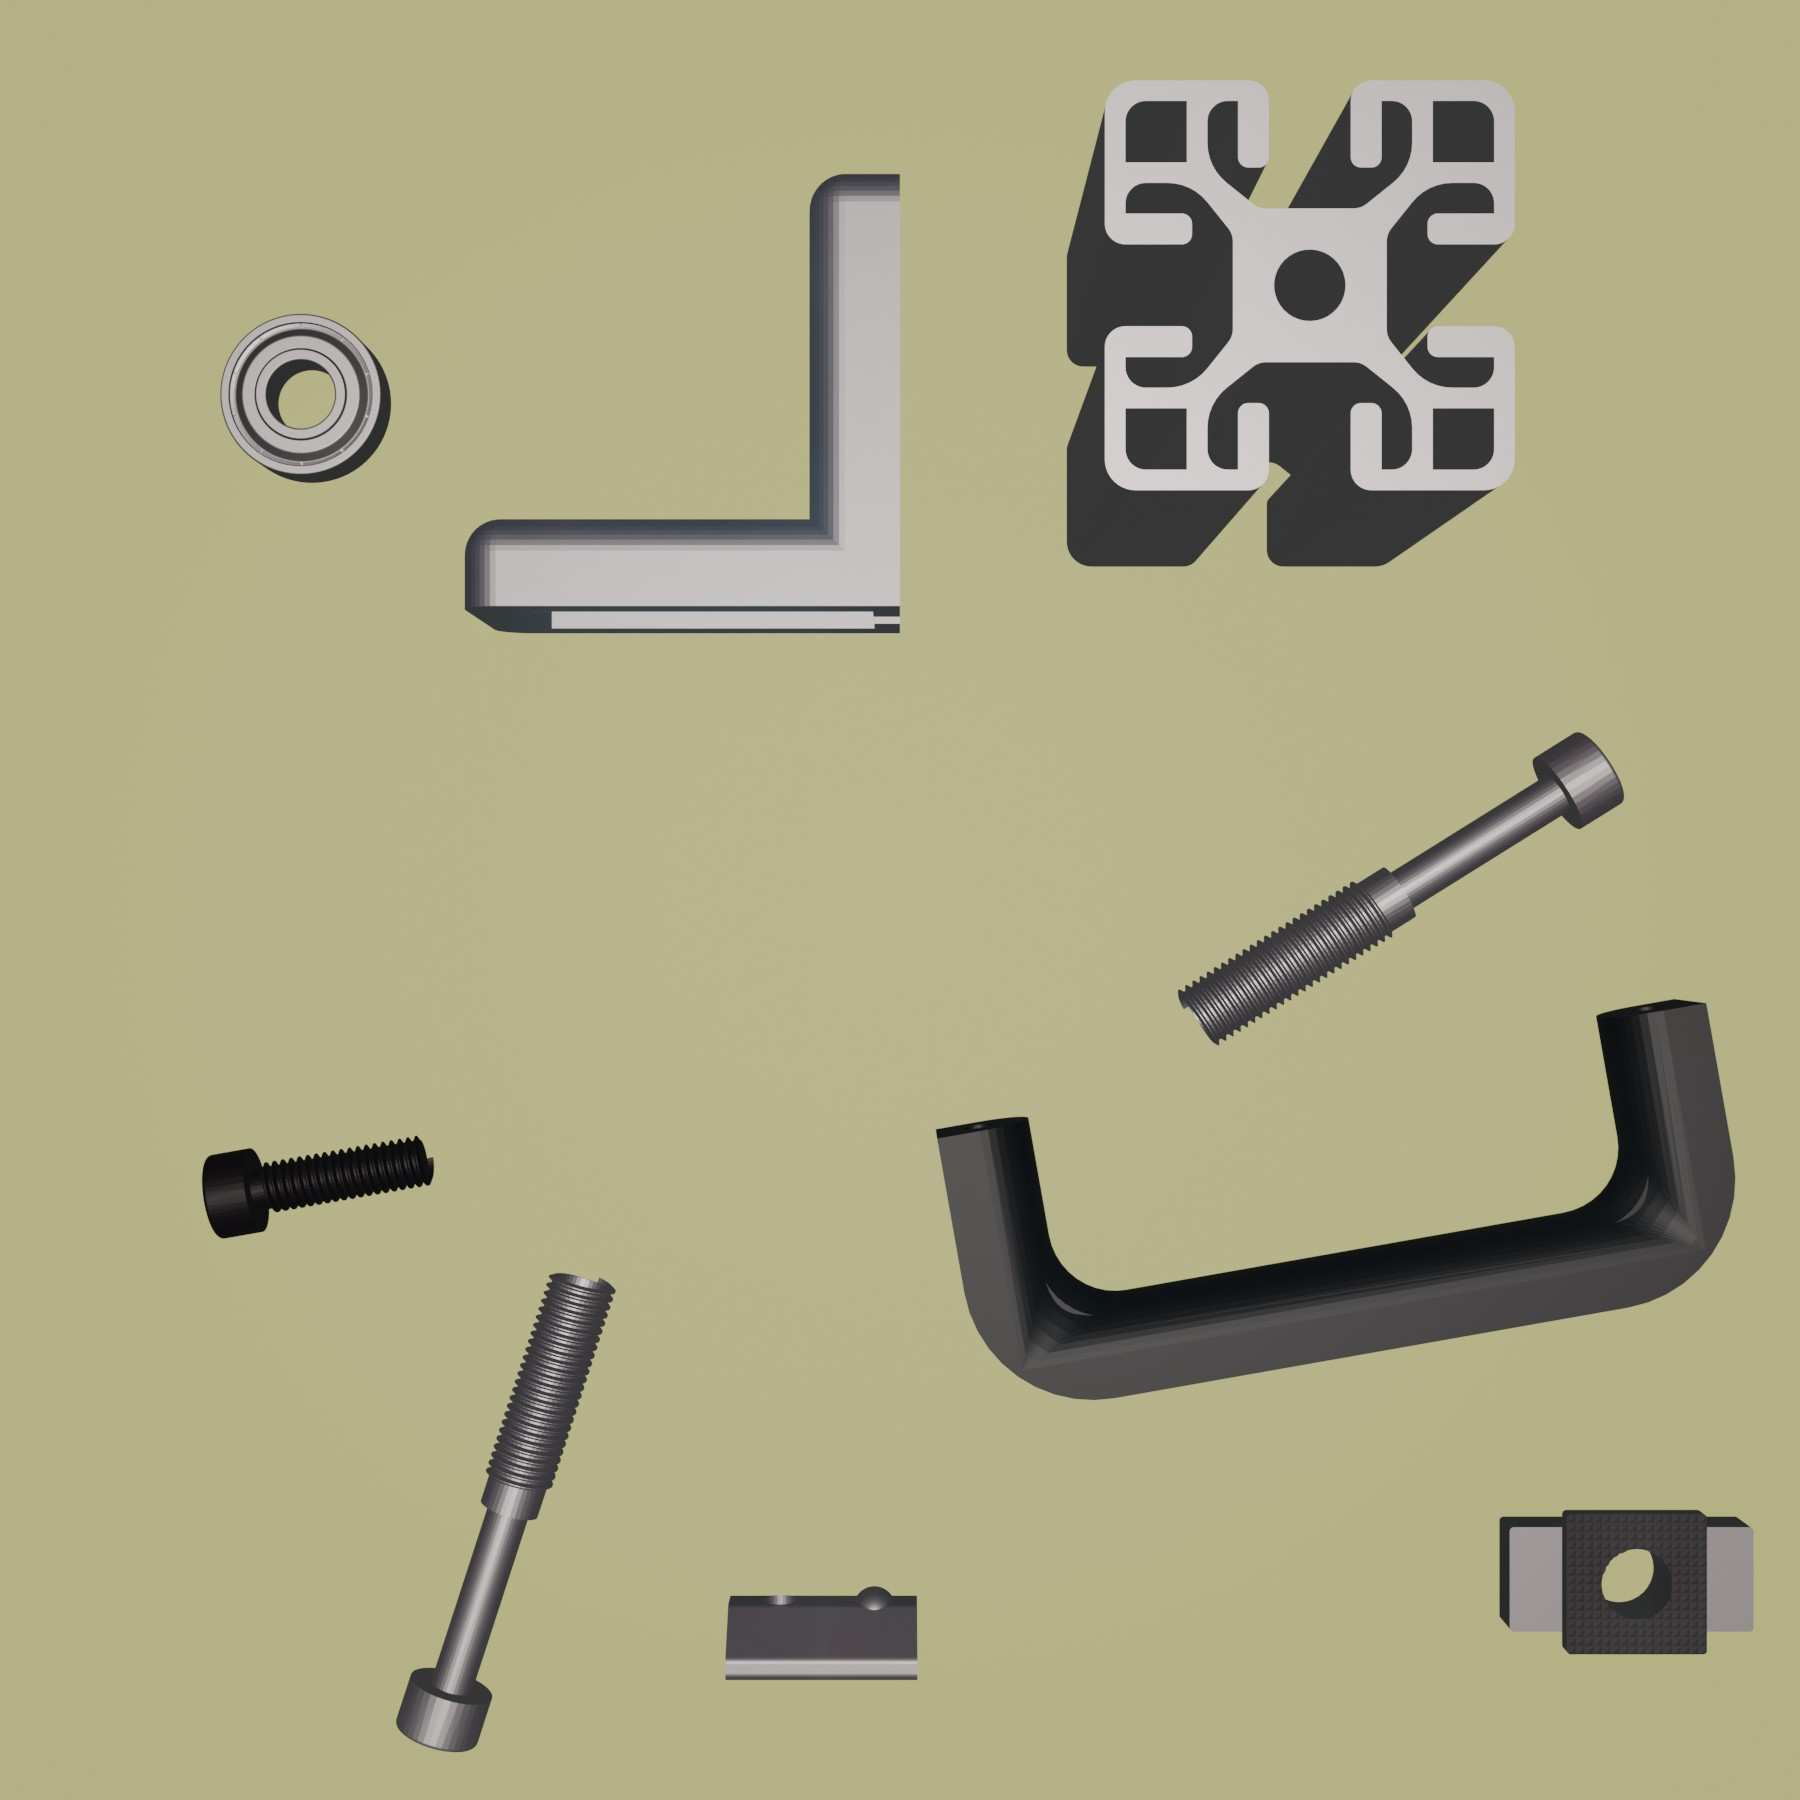Aluminium Extension: (1062, 76, 1521, 569)
Ball Bearing: (218, 312, 392, 486)
Multiwinkel: (462, 170, 907, 638)
Pull Handle: (931, 997, 1737, 1403)
Shoulder Socket Head Cap Screw: (1175, 730, 1627, 1047), (392, 1268, 616, 1755)
Socket Head Cap Screw: (198, 1132, 435, 1240)
T Nut Square: (1497, 1503, 1759, 1657)
T Spring Nut: (720, 1581, 923, 1686)
